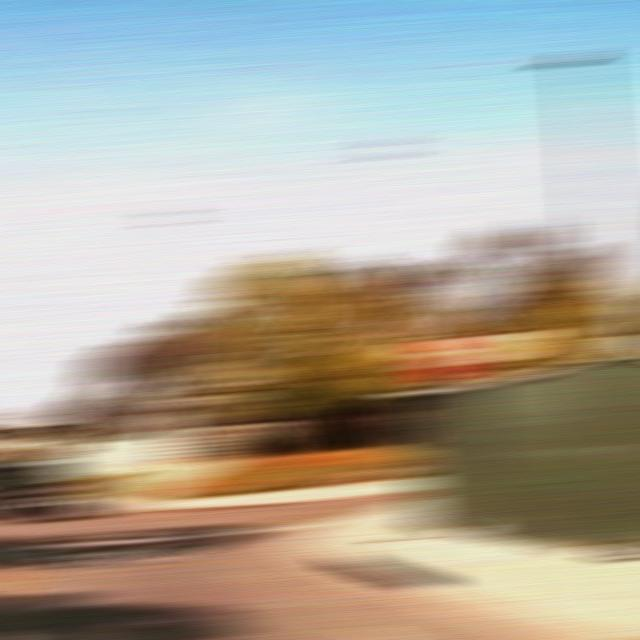stop: (414, 335, 476, 384)
